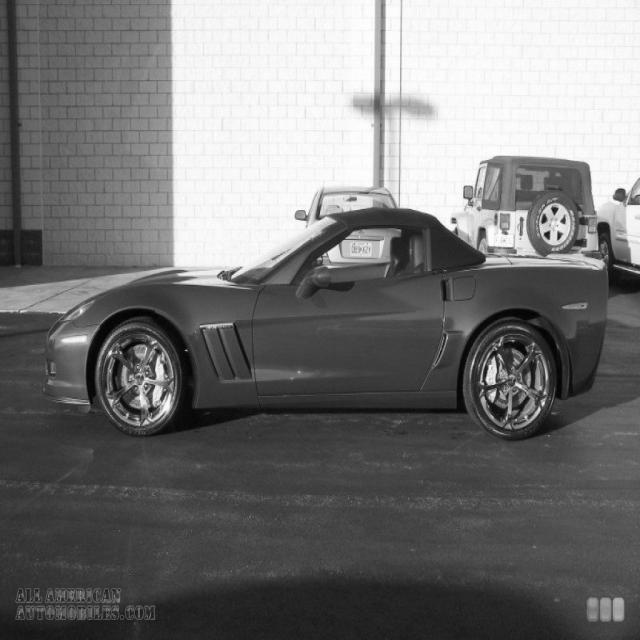car: (42, 203, 609, 441), (451, 154, 598, 259), (596, 176, 640, 282)
